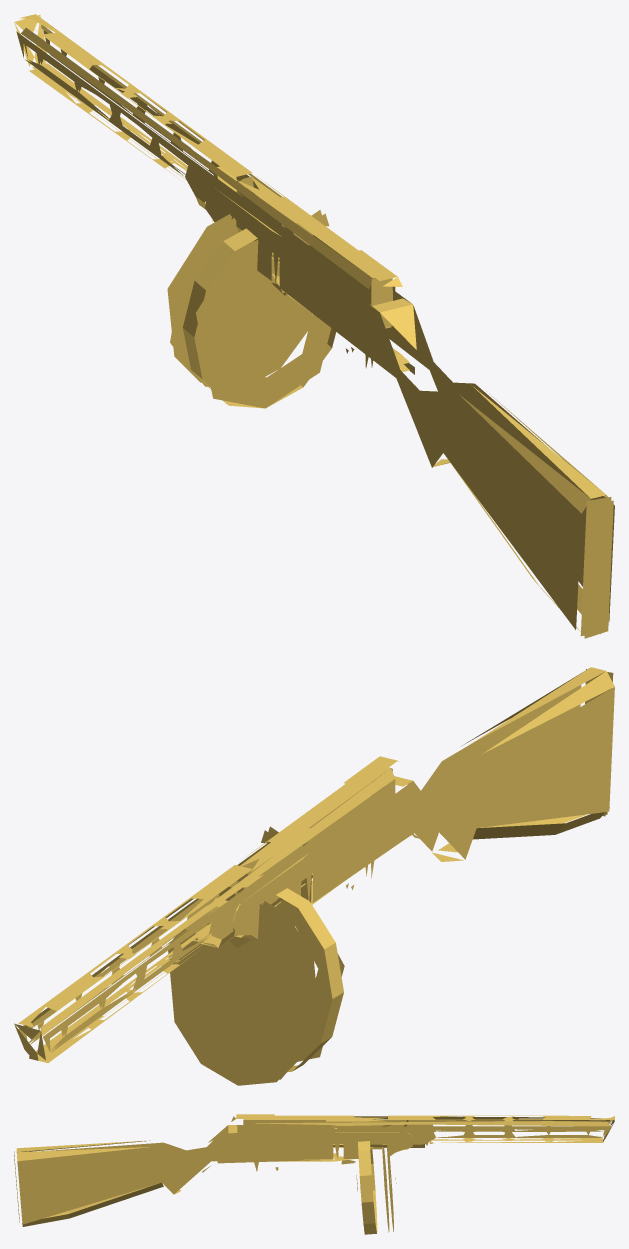
Rendered from charm_mst_subfusil_5.glb.
3 views of the same model, one above another, from view 1: azimuth 30°, elevation 25°; view 2: azimuth 150°, elevation 25°; view 3: azimuth 270°, elevation 25° (orthographic). The views are drawn at different scales.
Parts seen in each view (by area): view 1: p0_paint; view 2: p0_paint; view 3: p0_paint.
Boxes of the visible parts, box(x1,y1,x2,y2) form: p0_paint: box(14, 14, 614, 638); p0_paint: box(14, 667, 614, 1085); p0_paint: box(14, 1114, 614, 1234).
Size of the model in its own units: 0.1274 by 0.1779 by 0.8429.
